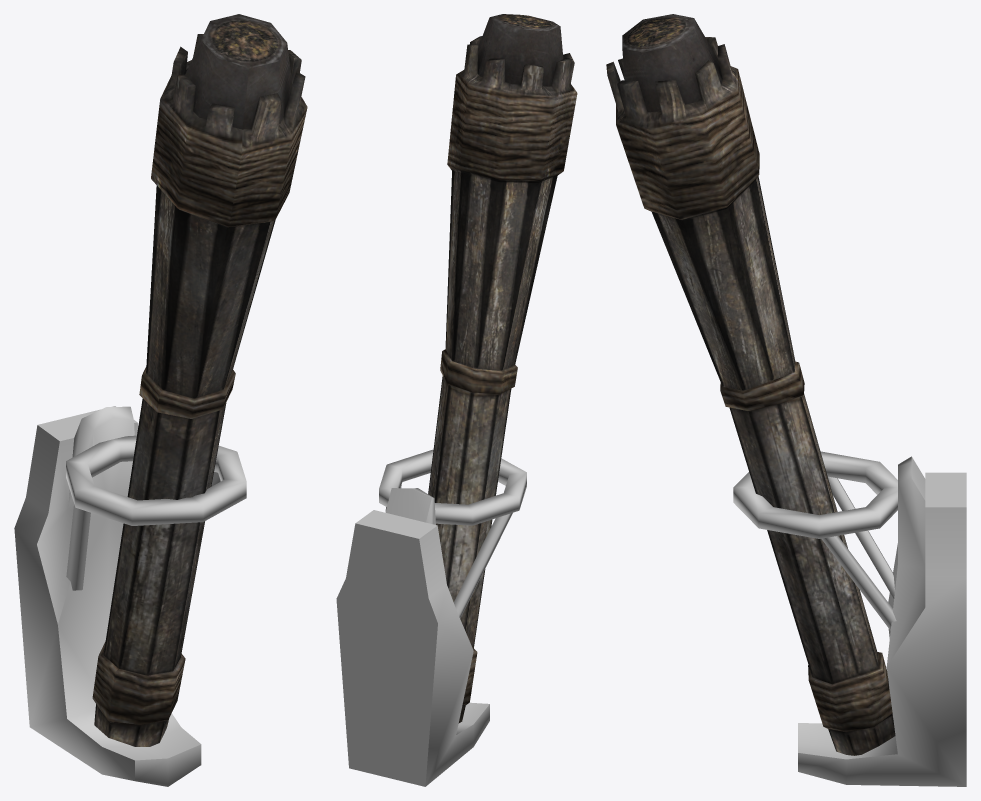
The model's file is torch.fbx.
3 renders of one model, left to right at view 1: azimuth 30°, elevation 25°; view 2: azimuth 150°, elevation 25°; view 3: azimuth 270°, elevation 25°, orthographic. The views are drawn at different scales.
Visible parts, largest first — view 1: group1_merged; view 2: group1_merged; view 3: group1_merged.
Boxes of the visible parts, x1,y1,x2,y2 form: group1_merged: (14, 14, 307, 786); group1_merged: (336, 14, 577, 786); group1_merged: (606, 14, 966, 786).
Bounding box in the file's own units: 11.95 × 57.69 × 25.06.
